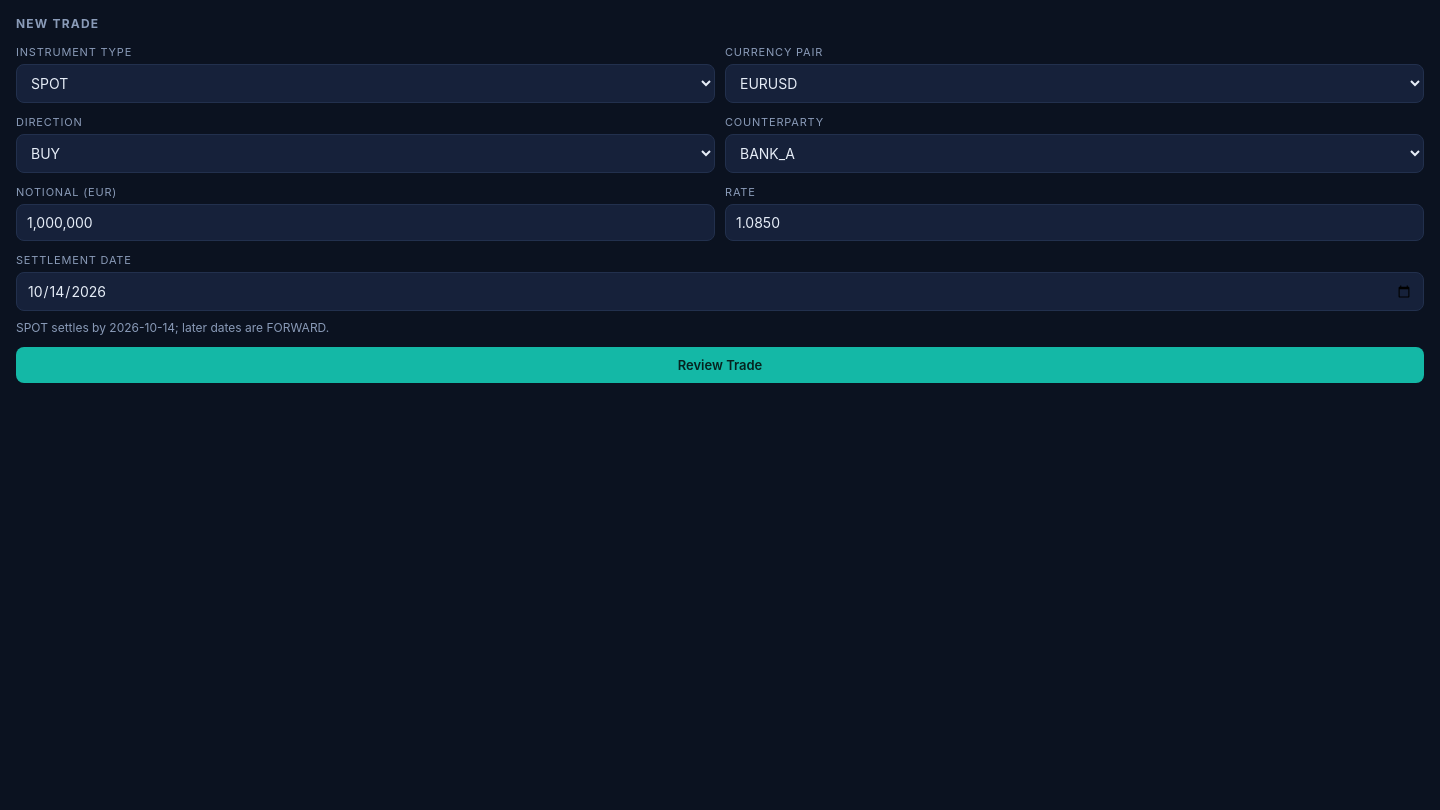
Test case: NewTradeForm › OPTION trades › defaults the strike rate to the market rate when switching to OPTION
The width and height of the screenshot is (1440, 810).
Select "OPTION" in the dropdown labelled "Instrument Type": (366, 84) [16, 64, 715, 103]
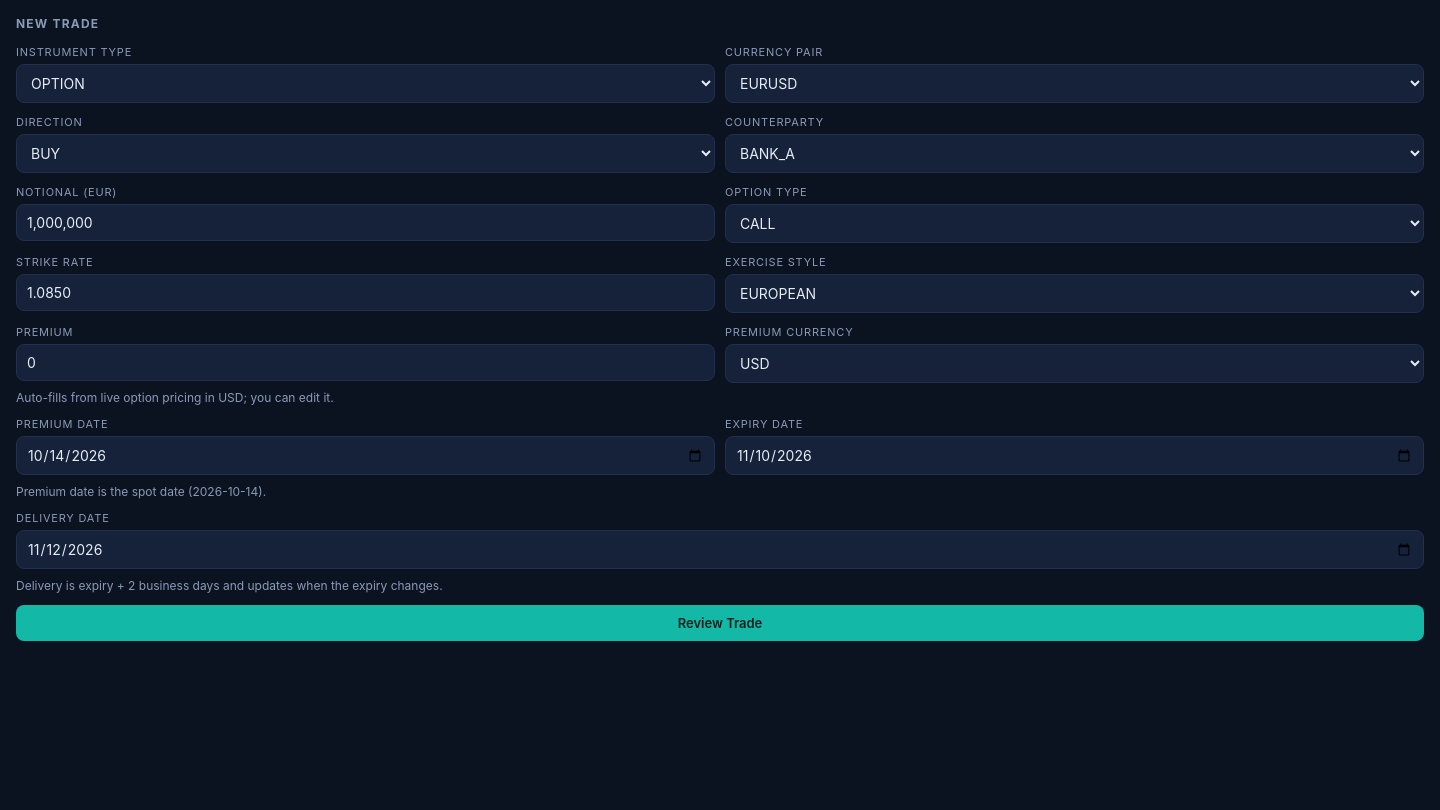
Expected: the field labelled "Strike Rate" holds "1.0850", [16, 274, 715, 311]
